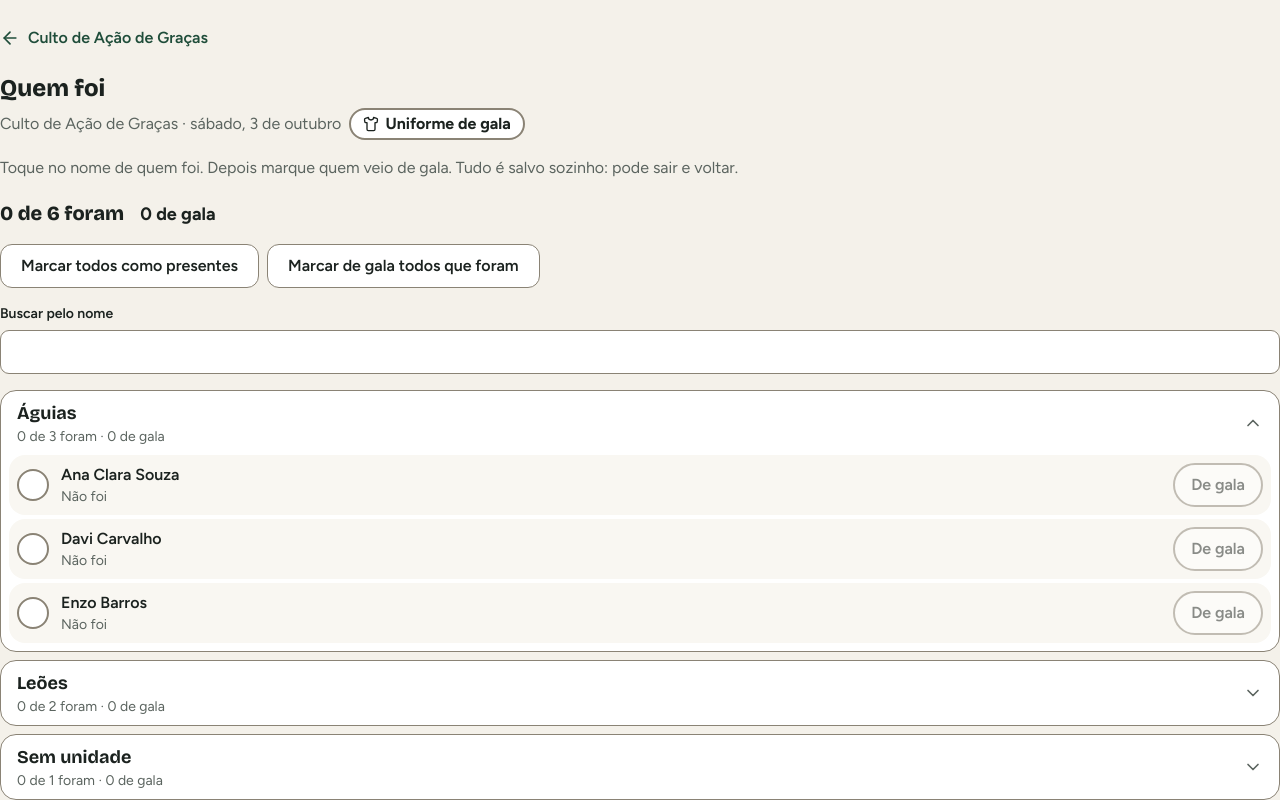
Test: lista "Quem foi" no celular › a pílula "De gala" liga o uniforme de quem foi e a contagem acompanha
Expected: the text "Ana Clara Souza" is shown, [61,463,179,487]
What coordinates should you click on to do the following:
click the button "Ana Clara Souza Não foi"
I would click on:
 (33, 485)
Its box is [17,463,1165,507].
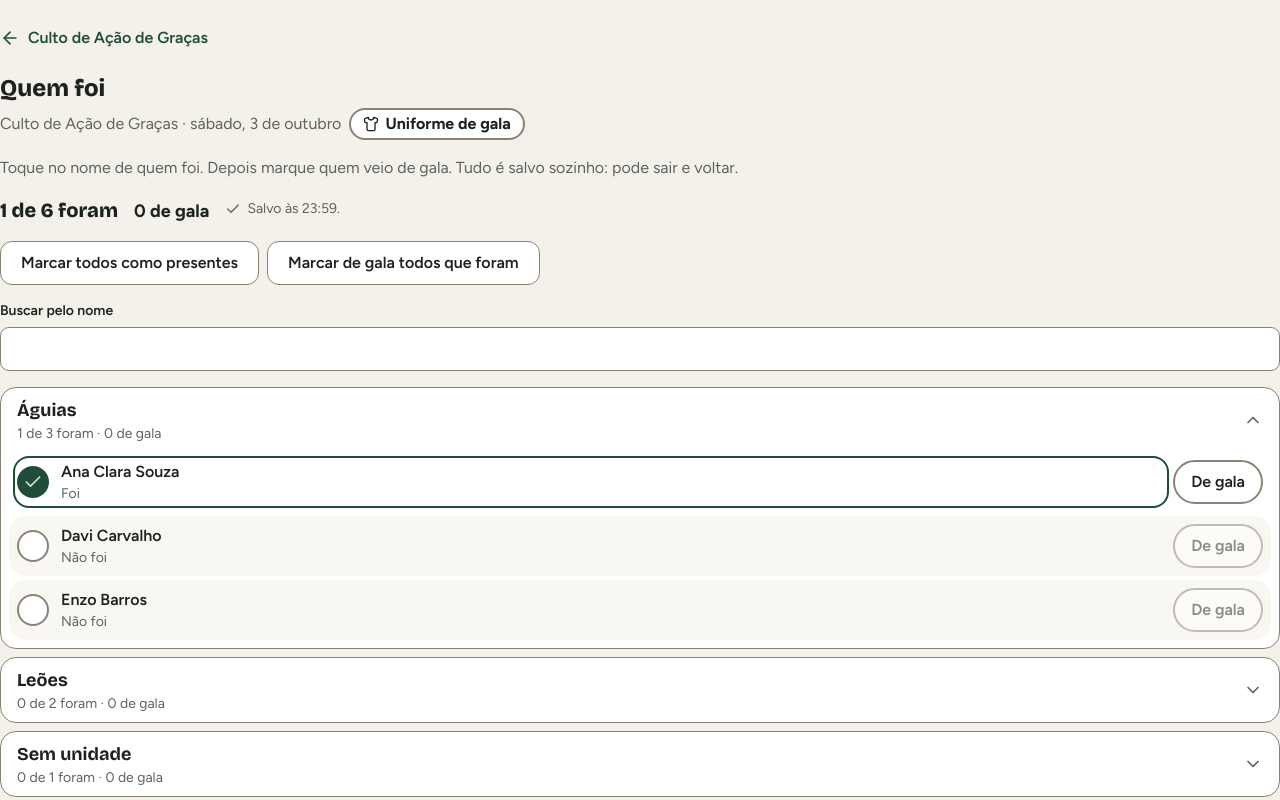
Expected: the button "Ana Clara Souza Foi" is pressed, [17,460,1165,504]
What coordinates should you click on to do the following:
click the button with aria-label "De gala: "
I would click on:
 (1218, 482)
Its box is [1173,460,1263,504].
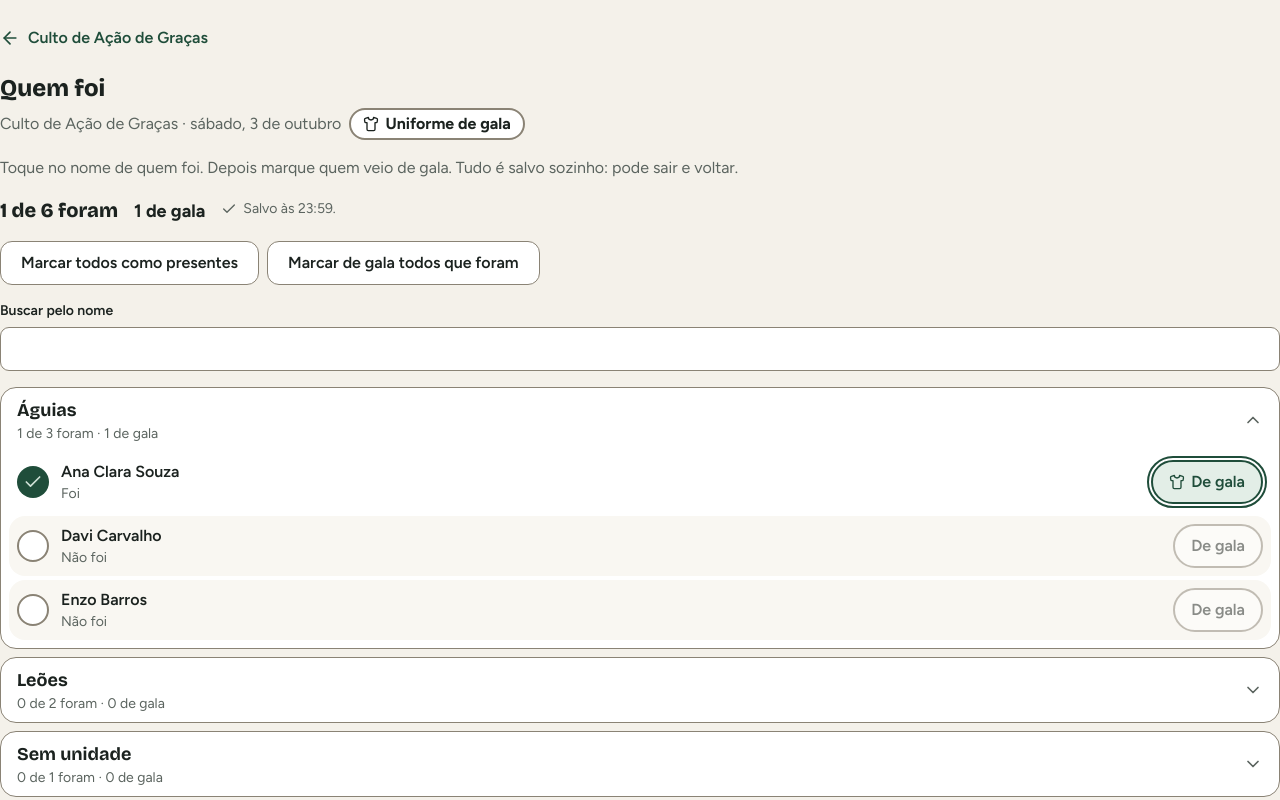
Expected: the text "1 de gala" is shown, [134,197,205,225]
Expected: the button "Águias 1 de 3 foram · 1 de gala" is shown, [9,396,1271,444]
